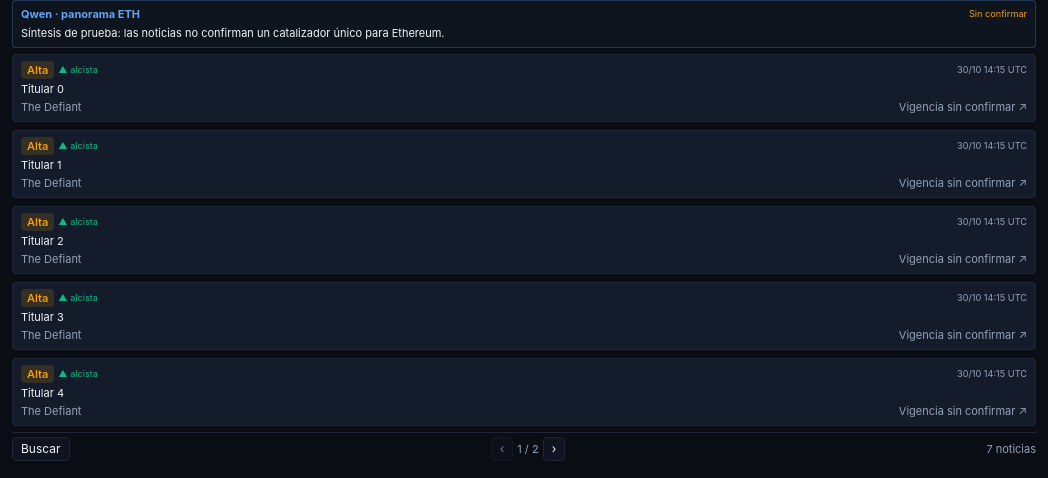
TerminalNewsPanel › uses measured capacity, preserves Qwen across pages, and recalculates on resize
The image size is (1048, 478).
Expected: the number of list items is 5, [12,54,1036,122]; [12,130,1036,198]; [12,206,1036,274]; [12,282,1036,350]; [12,358,1036,426]
Click the button named "Siguiente": (554, 449) [543,437,565,461]
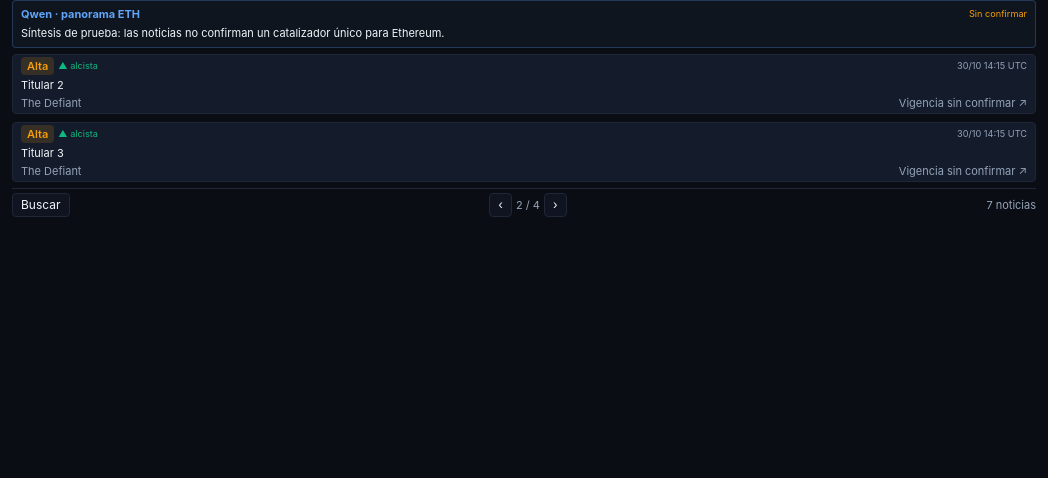
Expected: the element named "Qwen, resumen de noticias" shows "Síntesis de prueba: las noticias no confirman un catalizador único para Ethereum.", [21,26,444,40]
Now the number of list items is 2, box [12,54,1036,114]; [12,122,1036,182]
Now the text "2 / 4" is shown, box [516,198,540,212]
